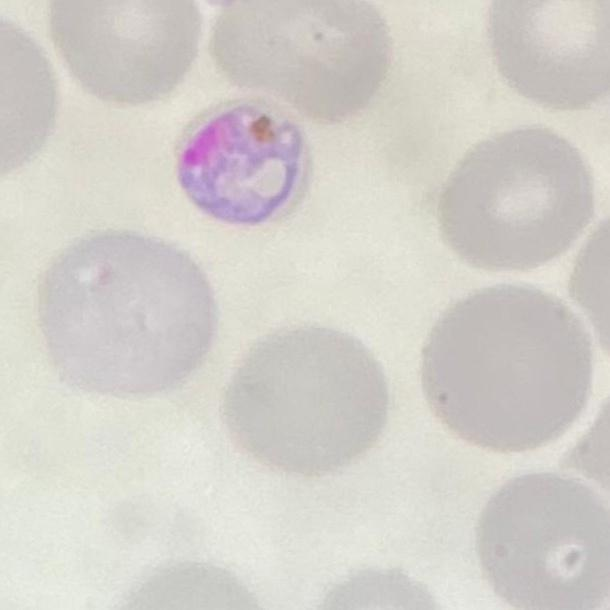Infected: (175, 99, 311, 229)
Uninfected: (37, 227, 213, 394), (422, 281, 591, 453), (222, 324, 392, 480), (435, 124, 593, 266), (215, 0, 388, 124), (478, 474, 610, 610), (40, 0, 203, 108)
